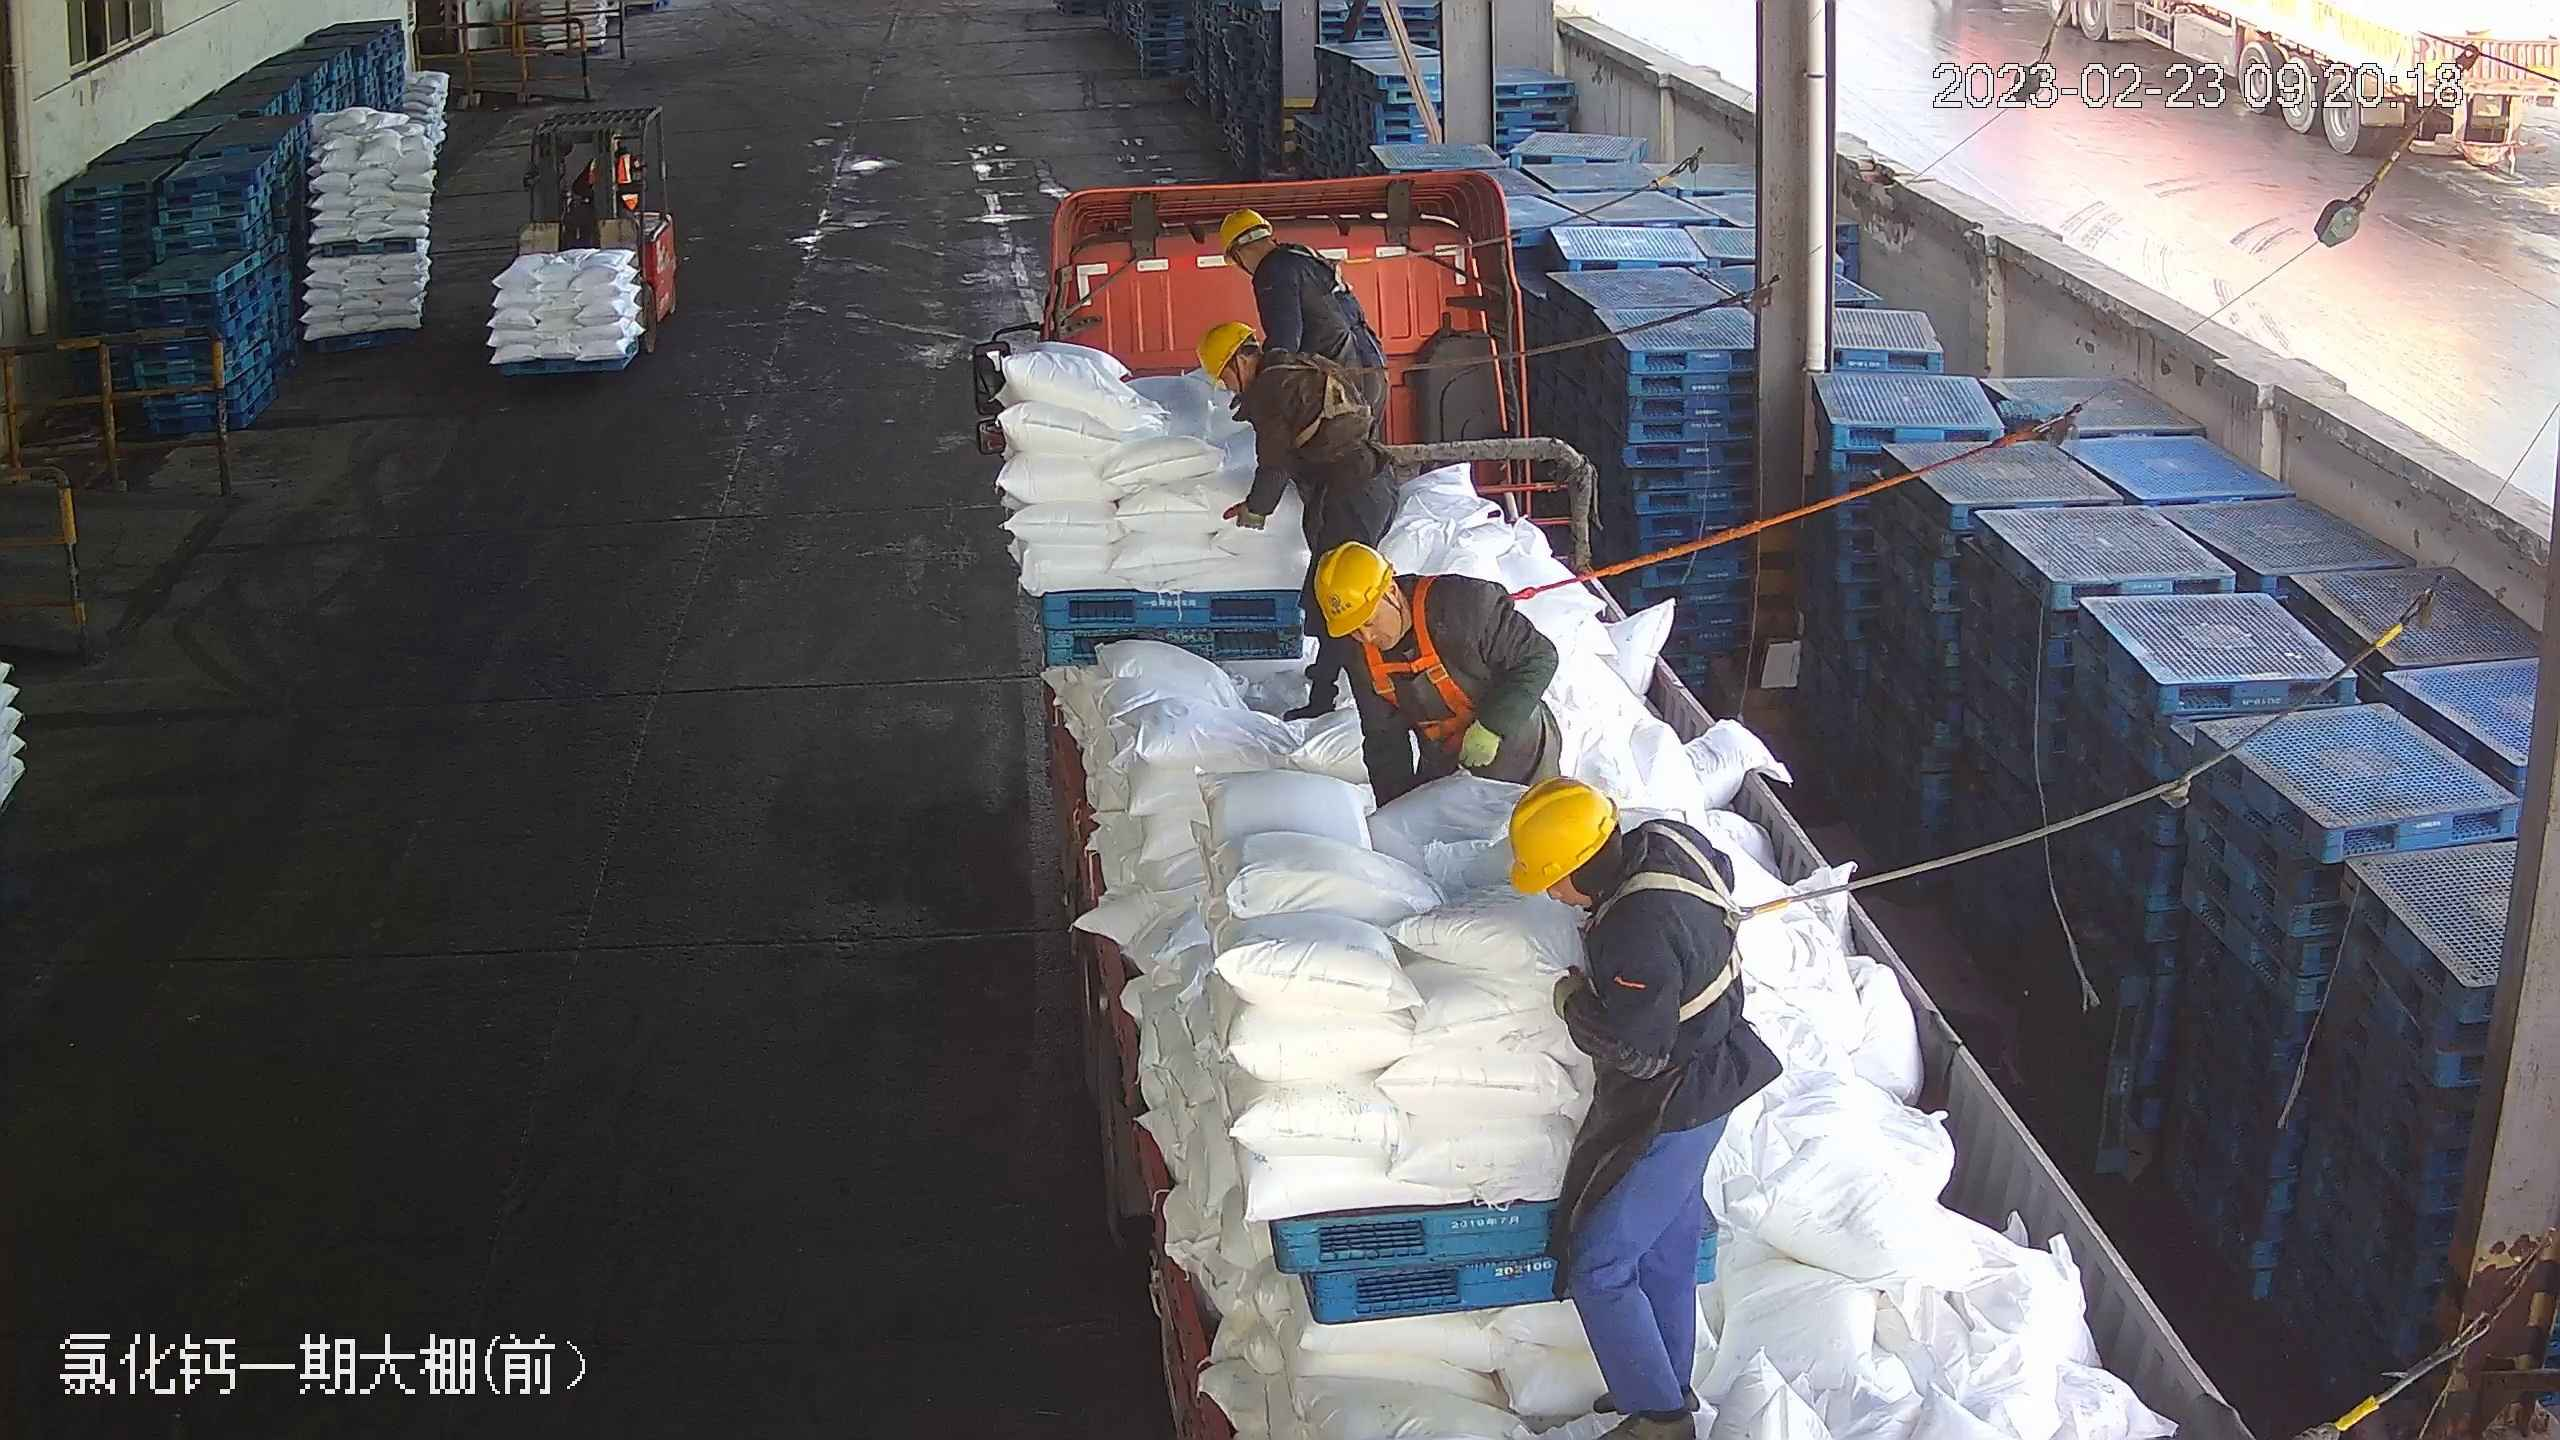belt: (1583, 820, 1787, 1027), (1365, 567, 1523, 720), (1257, 348, 1369, 449), (1291, 237, 1368, 291)
head: (1505, 772, 1725, 966), (1310, 543, 1490, 676), (1202, 321, 1318, 424), (1216, 206, 1323, 299)
helmet: (1504, 776, 1616, 891), (1313, 540, 1394, 633), (1198, 320, 1254, 385), (1215, 207, 1270, 254)
people: (1514, 769, 1779, 1437), (1202, 316, 1393, 725), (1307, 538, 1566, 821), (1216, 206, 1386, 419)
truck: (969, 155, 2253, 1440)
